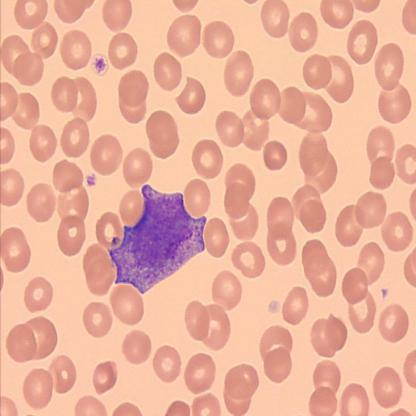Myelocyte: (109, 183, 214, 297)
